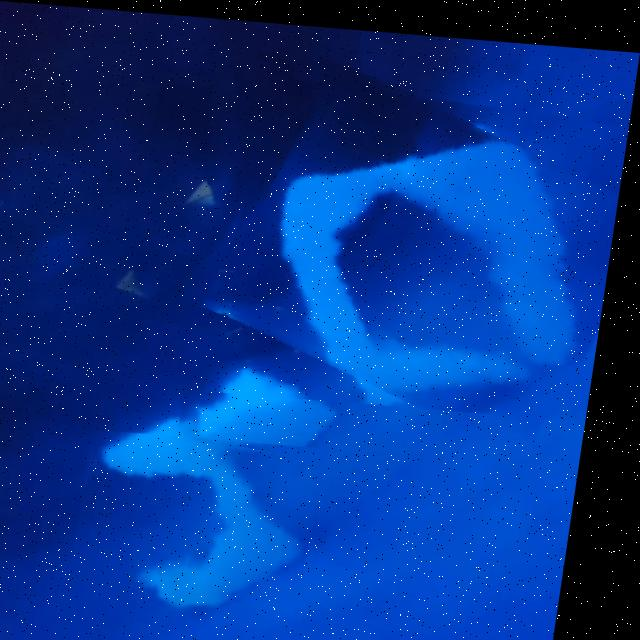litter: (216, 69, 634, 410), (86, 426, 343, 601), (188, 362, 337, 433)
